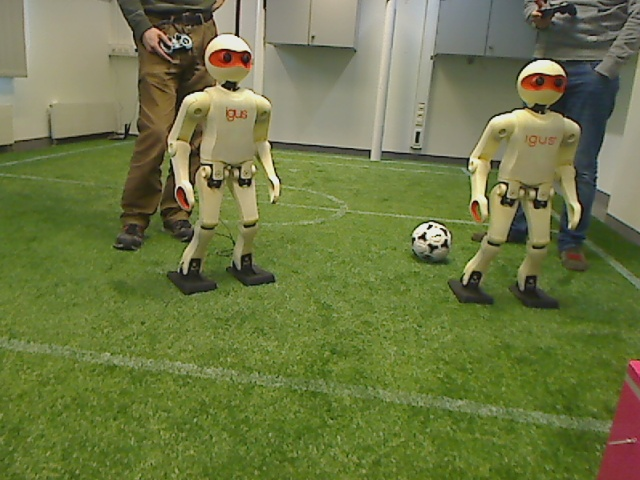ball: (409, 218, 455, 266)
robot: (152, 30, 290, 303), (450, 58, 585, 313)
